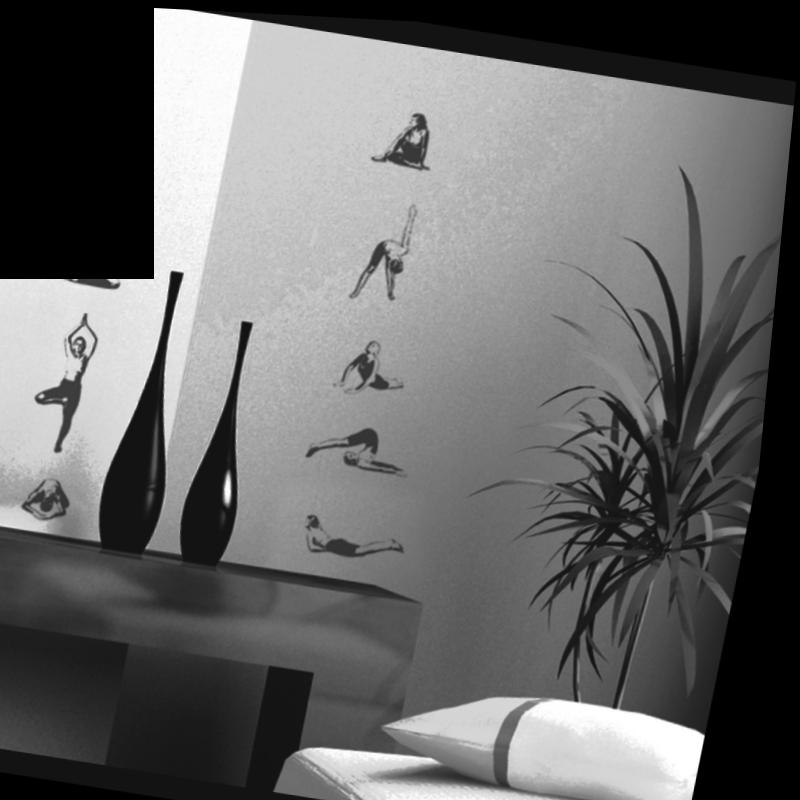pillow: (385, 671, 722, 800)
